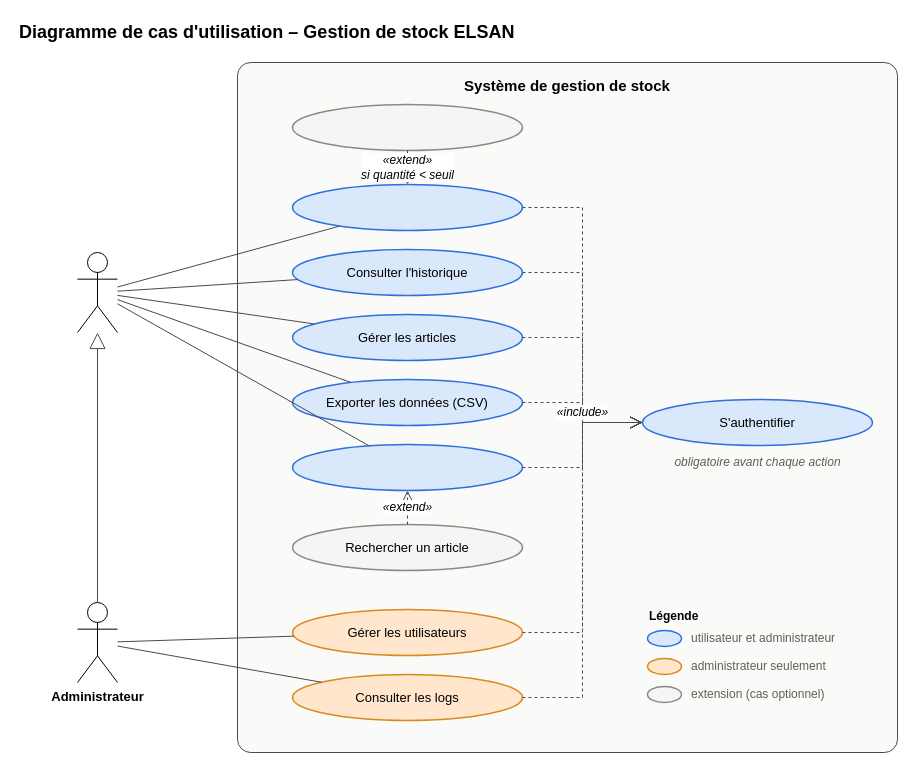
This 915x770 diagram has some shape labels left out. The shapes that lost their labels are listed below. From the top down, each one's centre as x and y in pixels, then its label:
At (x=407, y=127): "Alerter stock bas".
At (x=407, y=207): "Scanner un article".
At (x=97, y=292): "Utilisateur".
At (x=407, y=467): "Consulter le stock".
